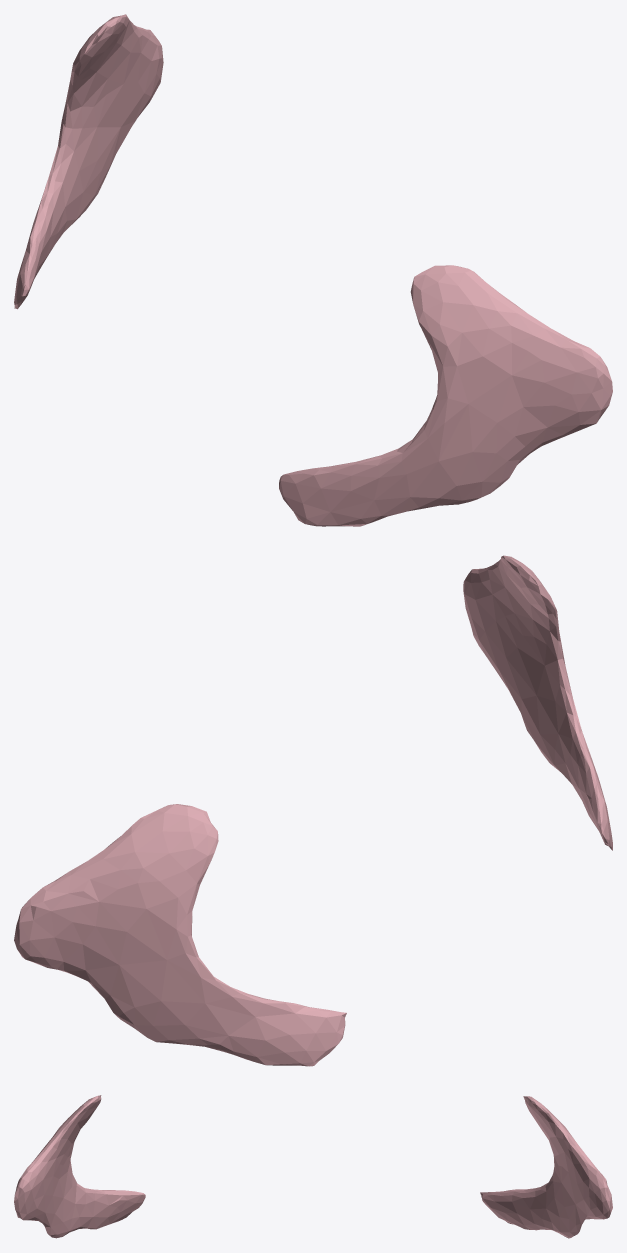
3 views of the same model, one above another, from view 1: azimuth 30°, elevation 25°; view 2: azimuth 150°, elevation 25°; view 3: azimuth 270°, elevation 25° (orthographic). The views are drawn at different scales.
Visible parts, largest first — view 1: 1029.obj; view 2: 1029.obj; view 3: 1029.obj.
Boxes of the visible parts, x1,y1,x2,y2 form: 1029.obj: (14,14,612,526); 1029.obj: (14,555,612,1066); 1029.obj: (14,1095,612,1238).
Bounding box in the file's own units: 1245 × 1242 × 4165.
